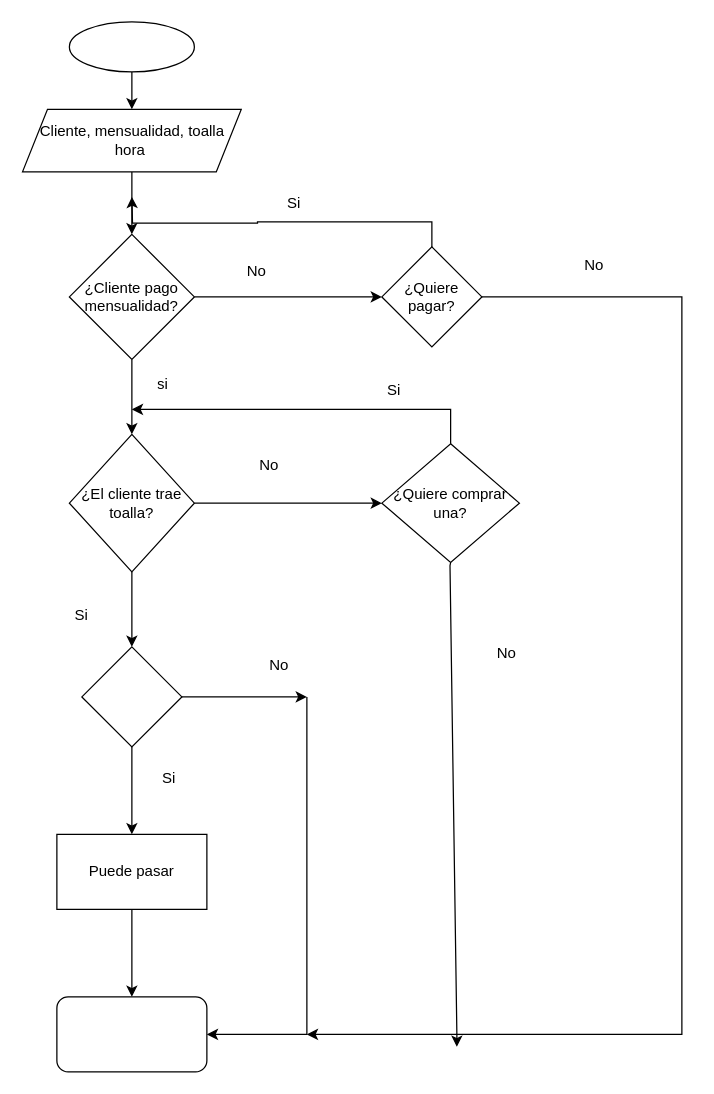
Image size: 714x1094. Some labels were removed from this diagram. The centre of each missing label's shape, as x and y in pixels:
"21>Hora>9" goes at pixel 131 696.
"Fin" goes at pixel 131 1034.
"Inicio" goes at pixel 131 46.
